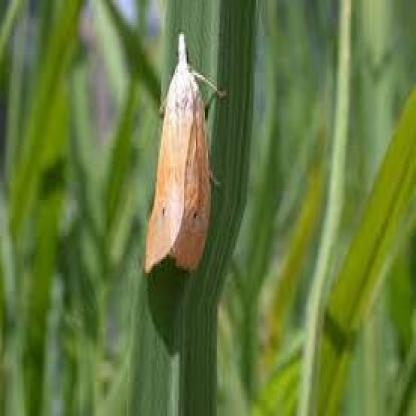stem-borer: (145, 31, 228, 276)
